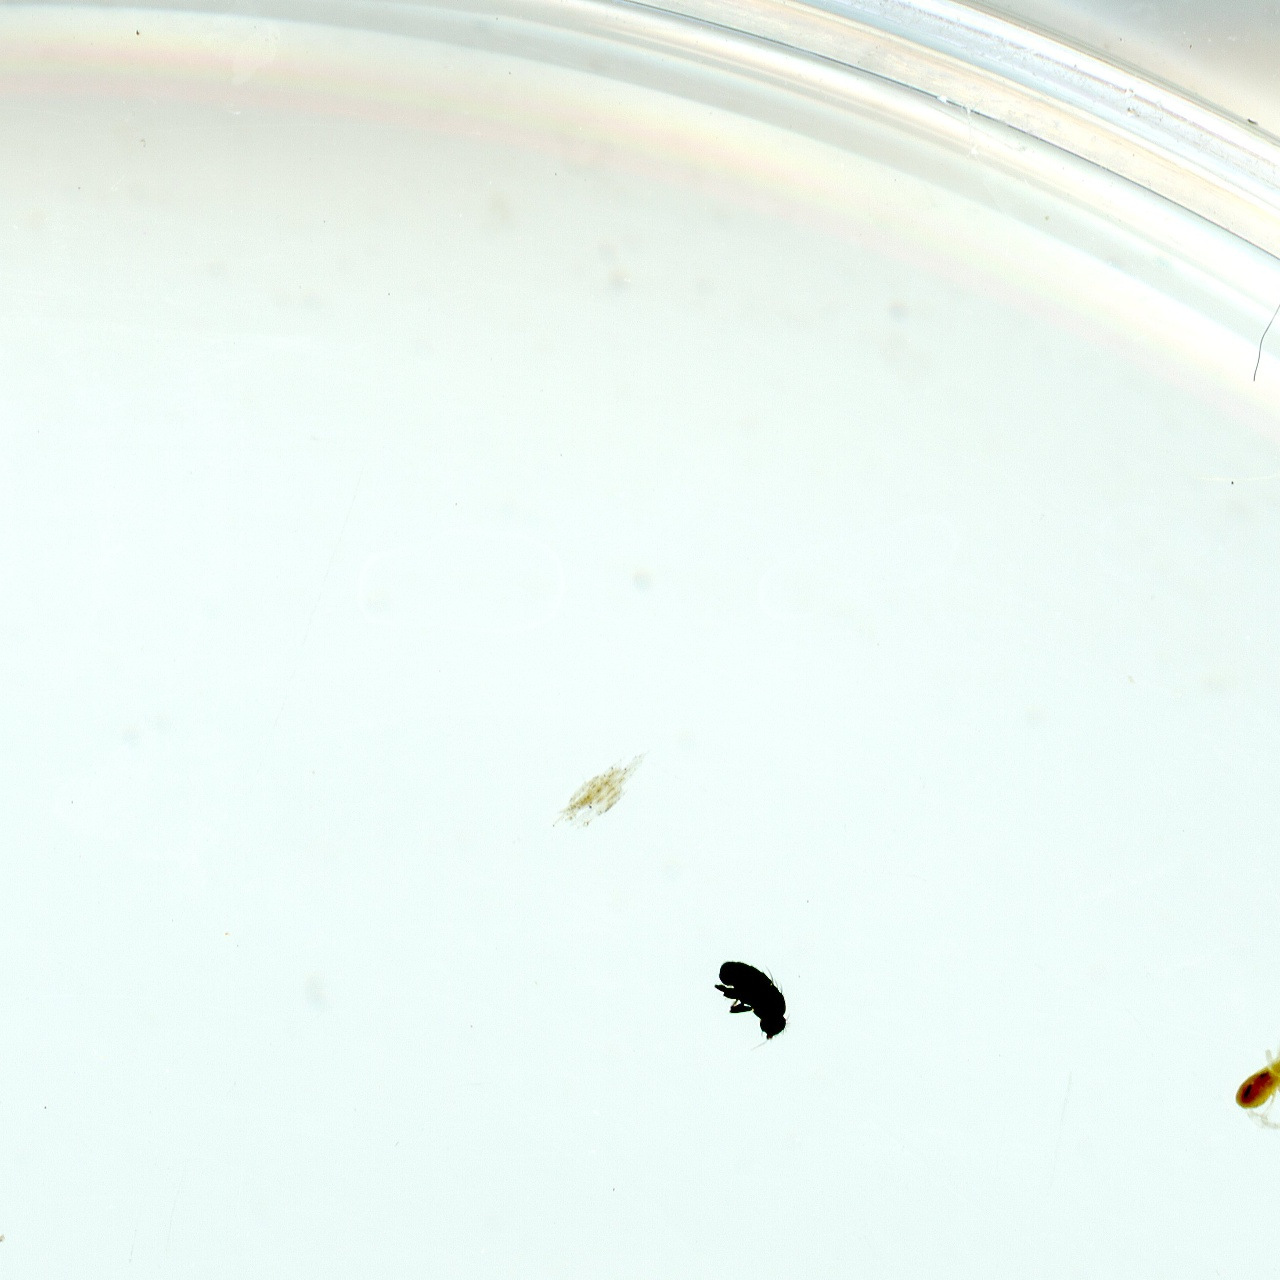arthropod: (1213, 1000, 1280, 1159), (709, 956, 795, 1056)
